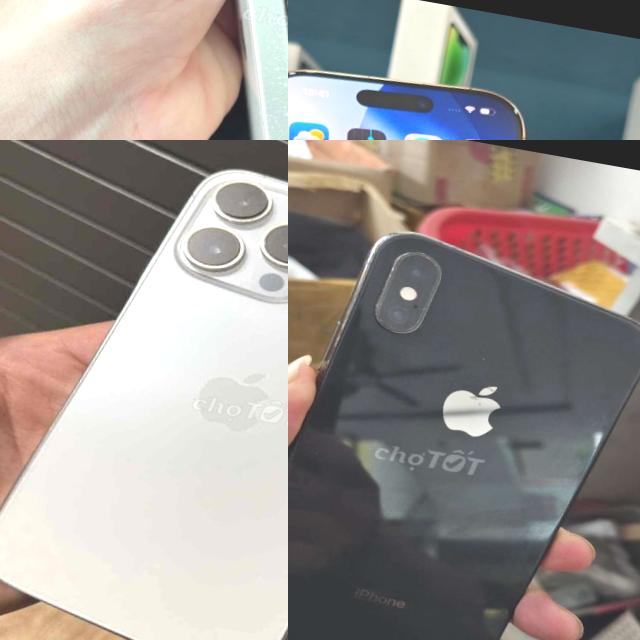scratch: (205, 0, 288, 140), (368, 249, 402, 328), (468, 376, 503, 414), (412, 302, 434, 321), (474, 348, 496, 366)
